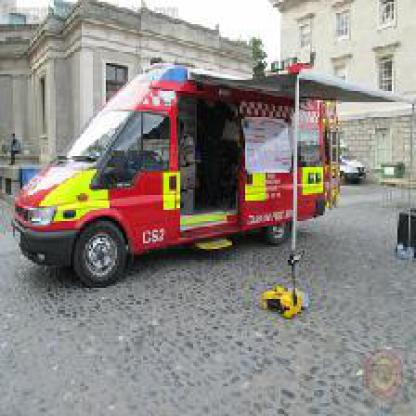emergency: (11, 61, 414, 282)
